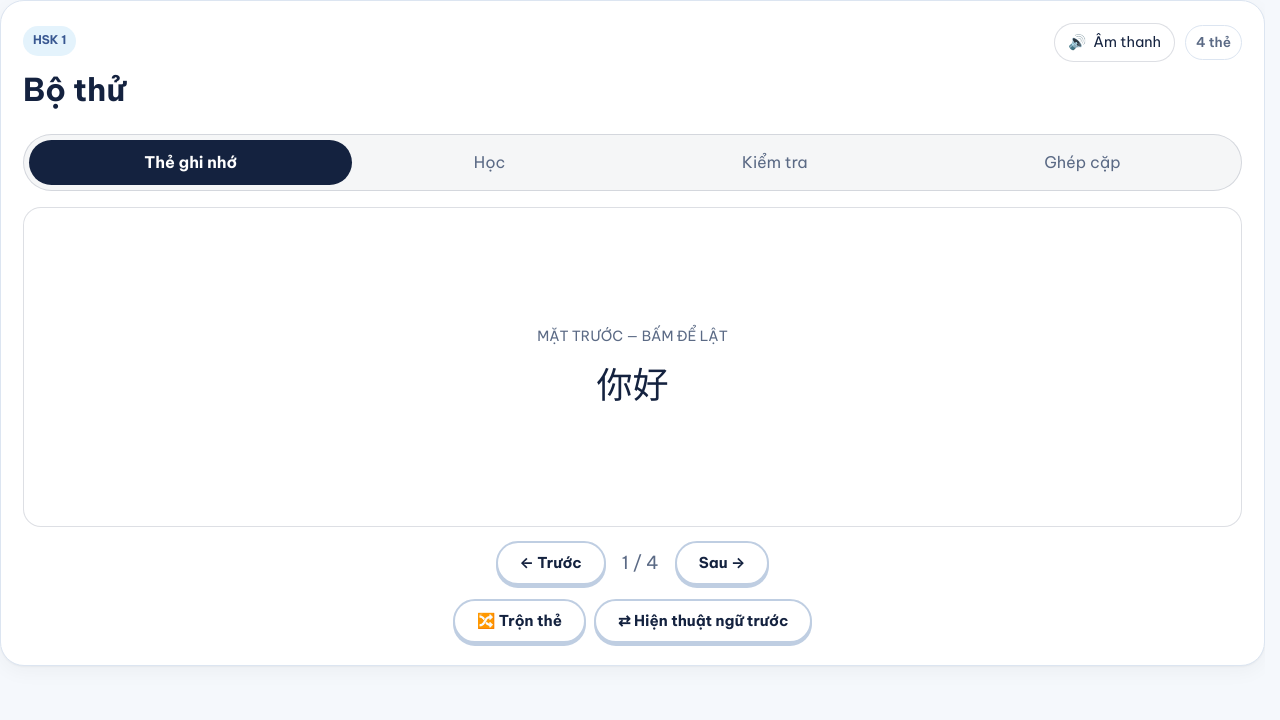
it: hiệu ứng lật thẻ › đảo mặt hiện trước thì đổi nội dung hai mặt
Click the button "⇄ Hiện thuật ngữ trước" at (703, 621), box [594,599,812,643]
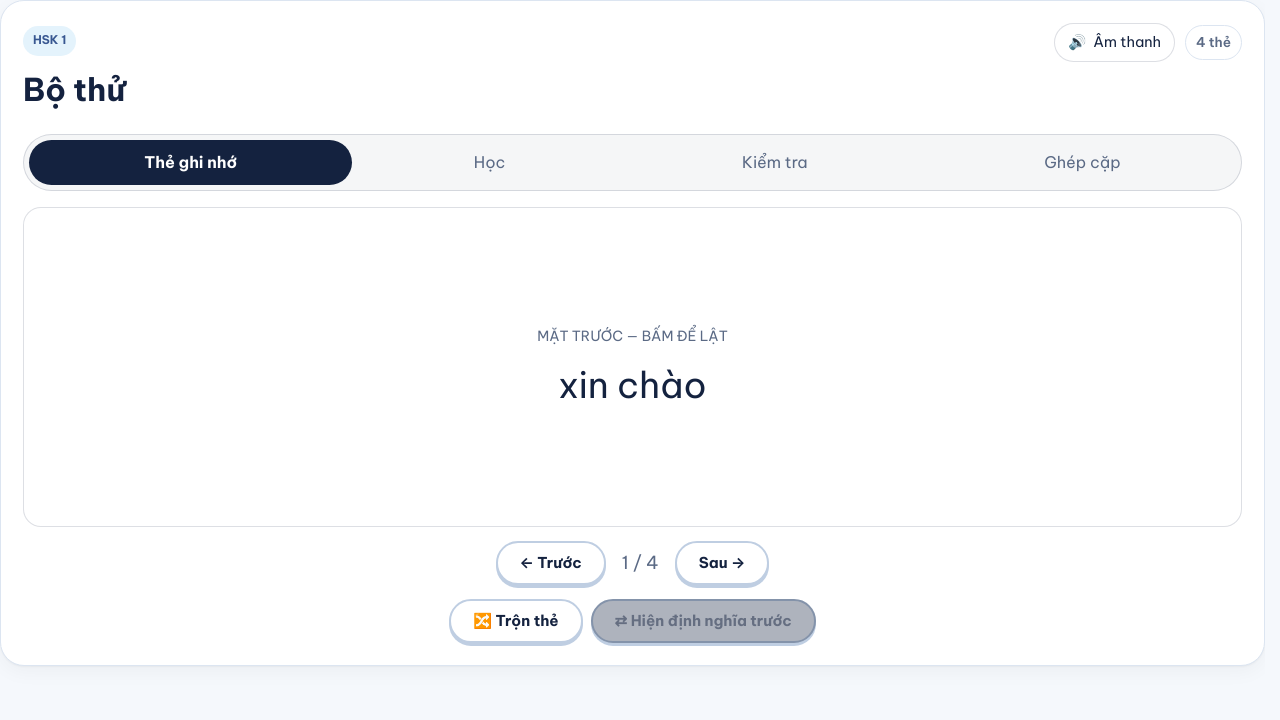
Now the text with class "fc-card__text" reads "xin chào", box [558,362,707,408]
Now the text with class "fc-card__text" reads "你好", box [596,362,668,408]
